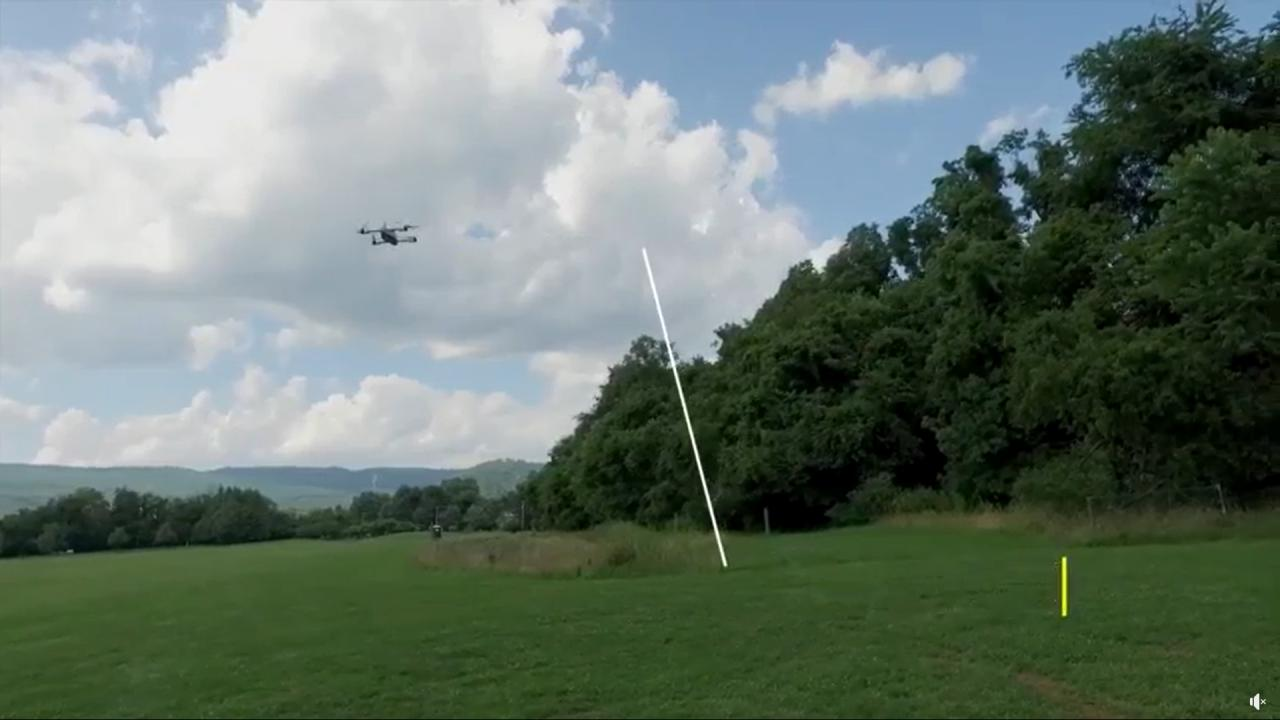Drone: (350, 214, 430, 258)
